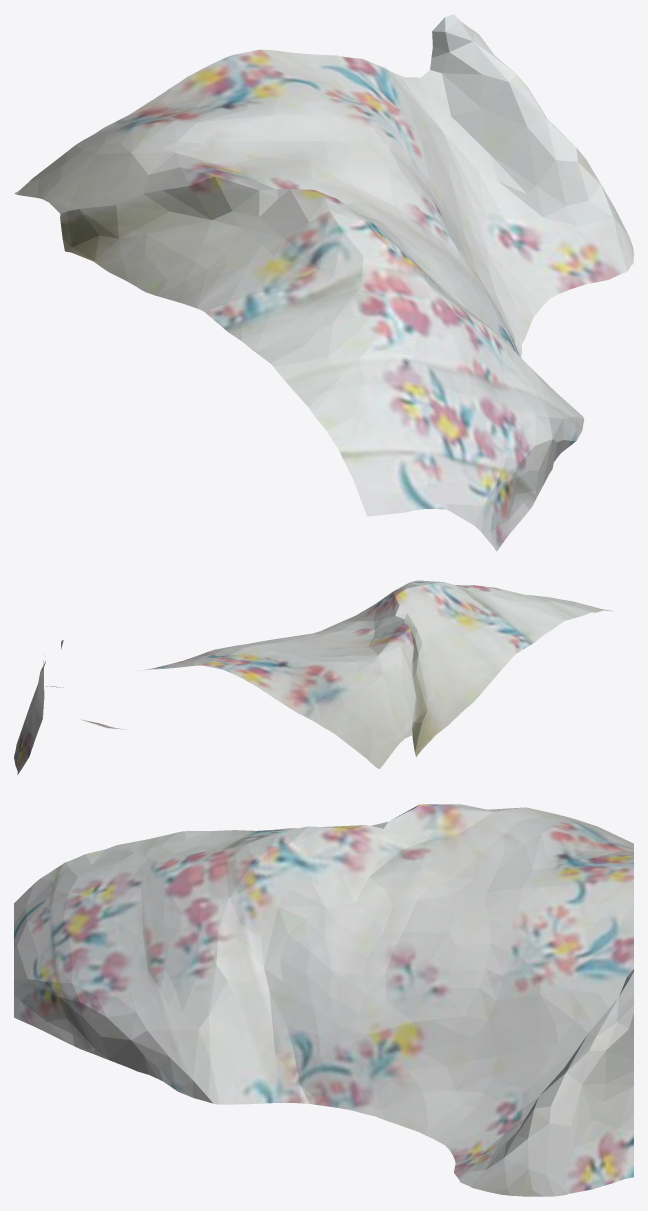
The picture shows the model from 3 angles, top to bottom: view 1: azimuth 30°, elevation 25°; view 2: azimuth 150°, elevation 25°; view 3: azimuth 270°, elevation 25°; orthographic projection. The views are drawn at different scales.
Size of the model in its own units: 154 by 59.03 by 171.
1 material, 1 textured.
